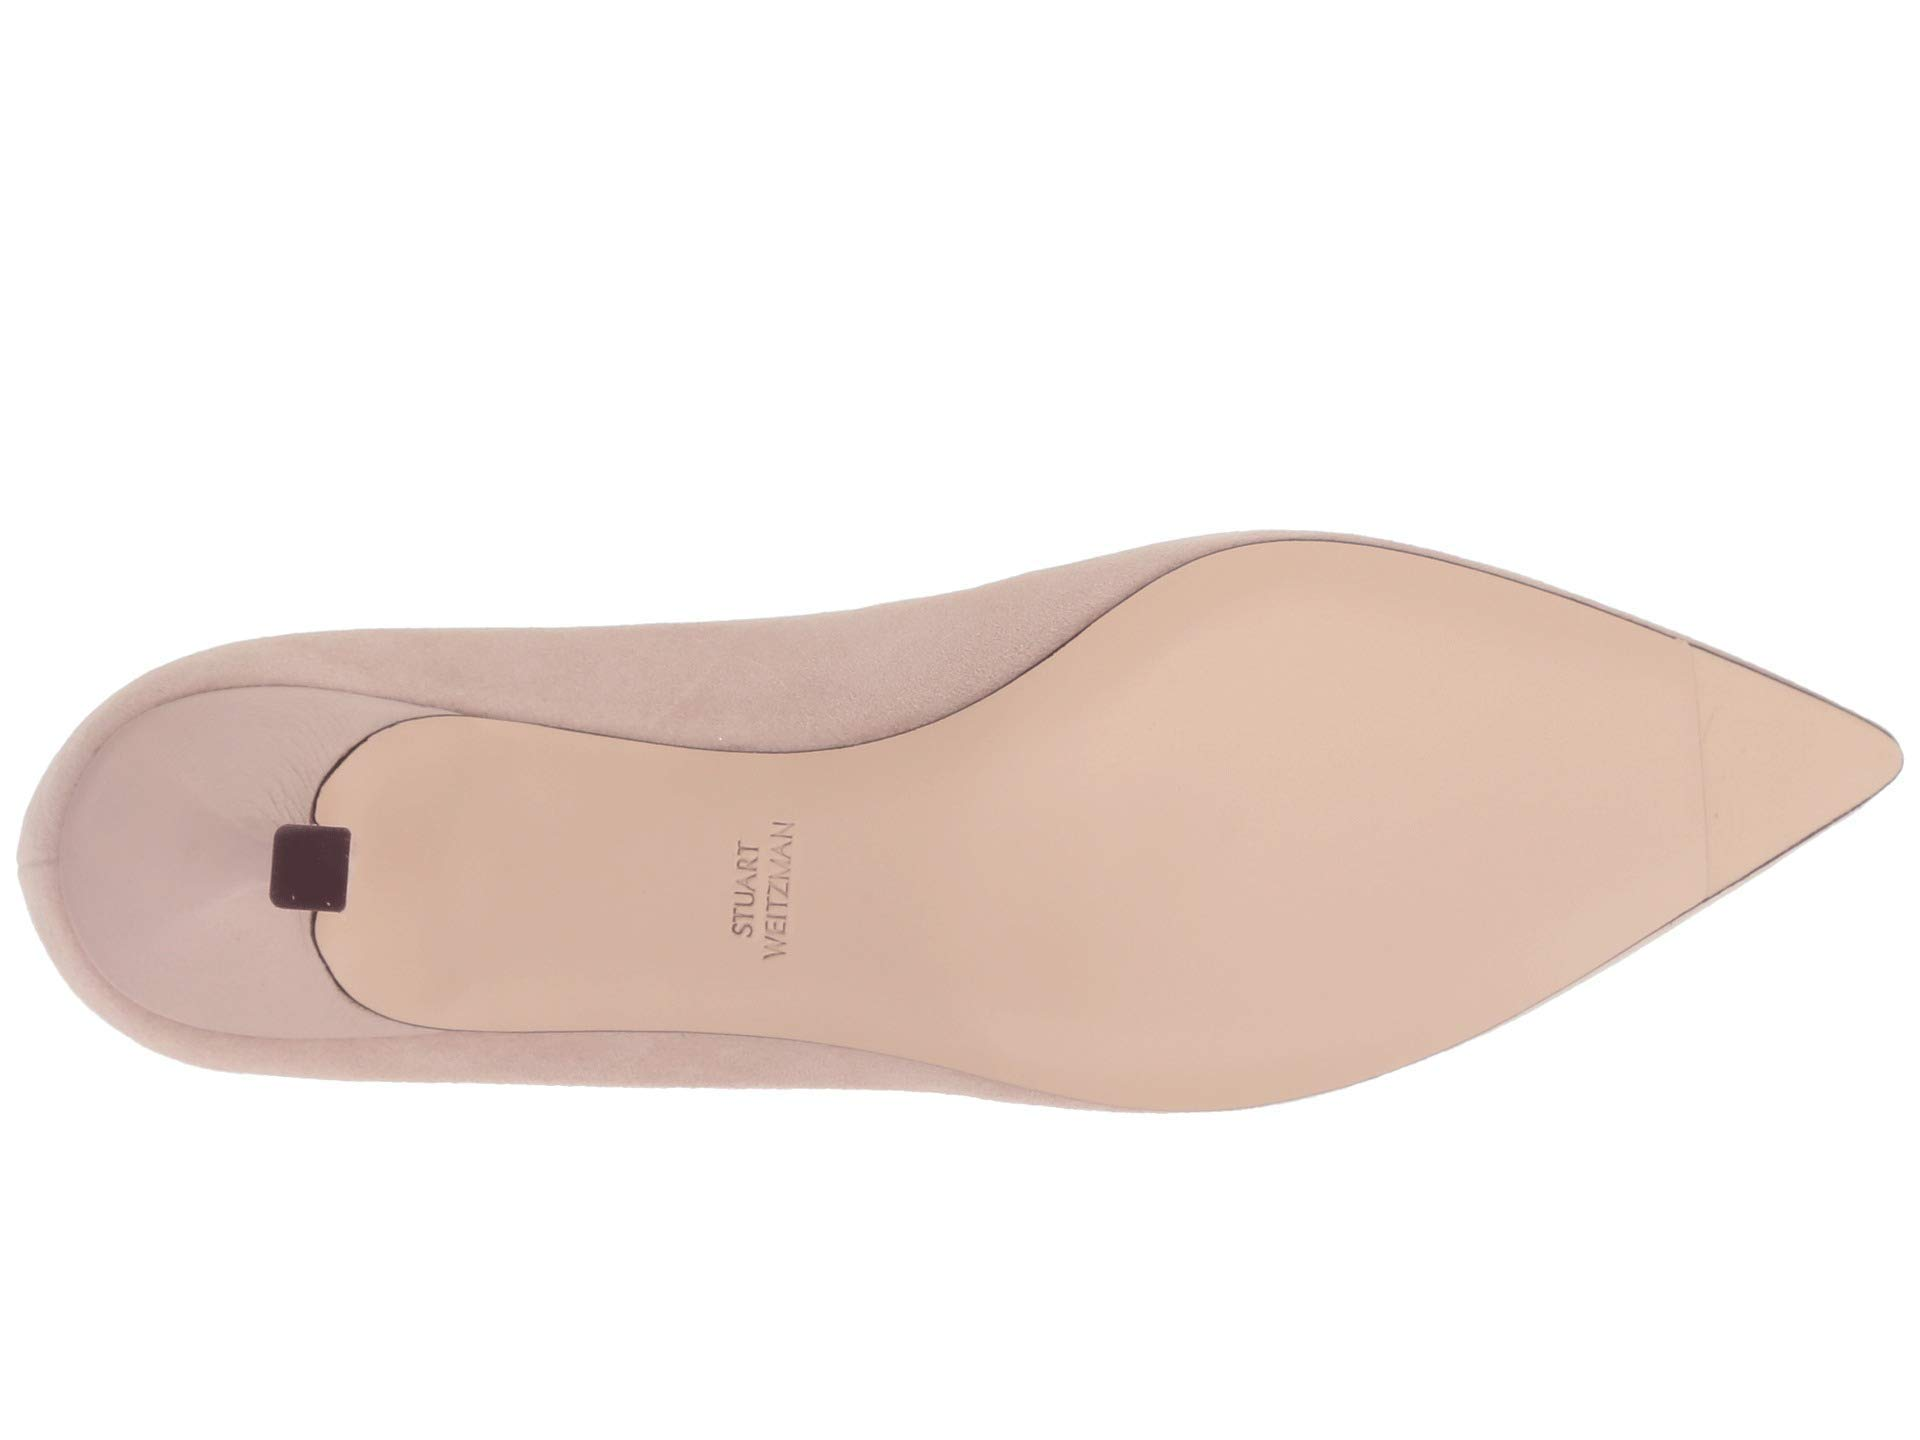quad: (275, 812, 357, 933)
text: (674, 743, 889, 1026)
